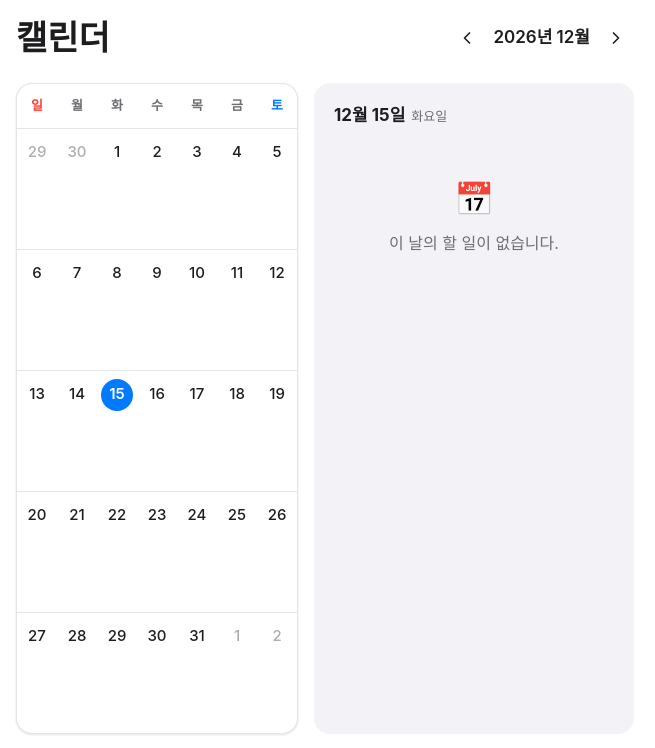
Test: CalendarPage › 12월에서 다음 달 클릭 시 이듬해 1월로 이동
Expected: the text with test id "month-label" reads "2026년 12월", [493,27,590,47]
Click the button with test id "next-month-btn". click: point(616, 38)
box: [598,20,634,56]
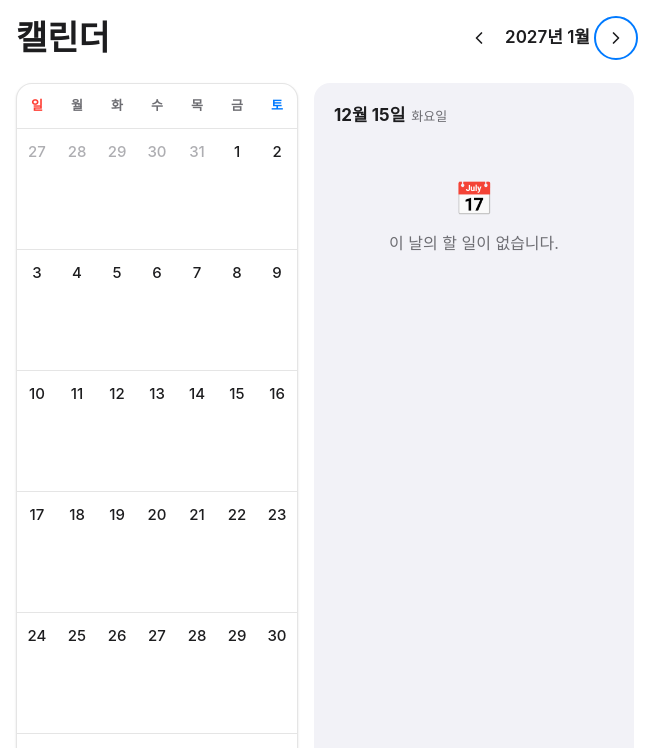
Result: the text with test id "month-label" reads "2027년 1월" at [505,27,590,47]
